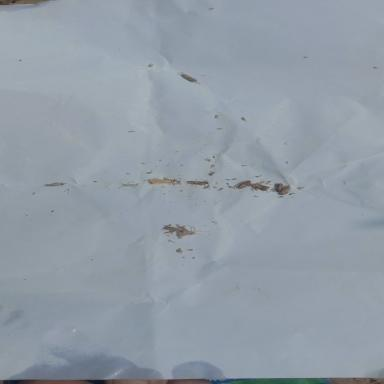pbw: (177, 72, 201, 84), (249, 182, 270, 194), (232, 180, 251, 189), (163, 225, 184, 232), (186, 180, 210, 186), (278, 184, 291, 195), (270, 183, 283, 193), (44, 182, 67, 186)
